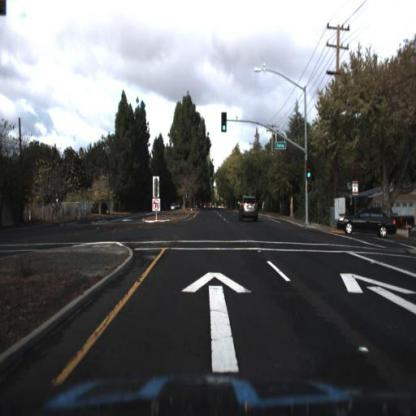car: (337, 205, 397, 239), (241, 196, 261, 224)
trafficLight-Green: (306, 160, 313, 182), (222, 109, 228, 134)
